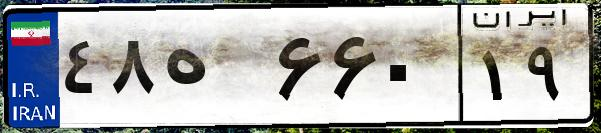0: (385, 28, 445, 110)
1: (475, 38, 525, 113)
4: (57, 26, 110, 100)
6: (270, 28, 330, 110), (330, 28, 385, 110)
8: (110, 28, 158, 98)
9: (525, 38, 570, 115)
ه: (158, 20, 270, 120)
